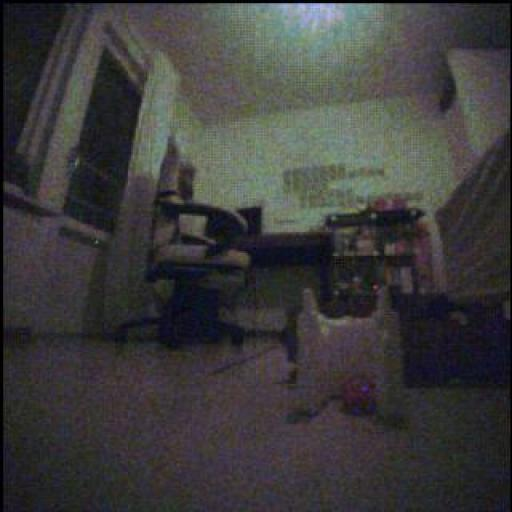basket: (342, 377, 377, 415)
